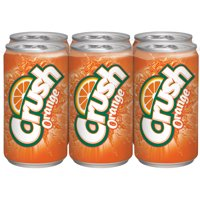can: (133, 39, 199, 169), (3, 40, 69, 168), (69, 40, 134, 168)
